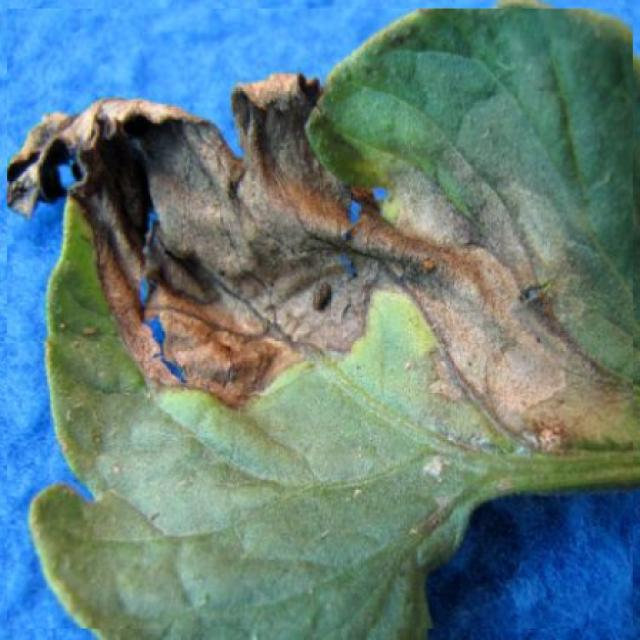Late Blight: (7, 8, 633, 629)
